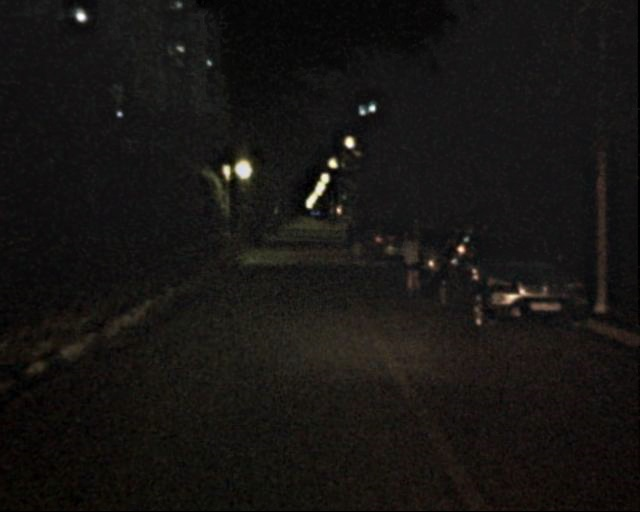person: (394, 229, 422, 297), (347, 218, 363, 258), (339, 222, 351, 251)
